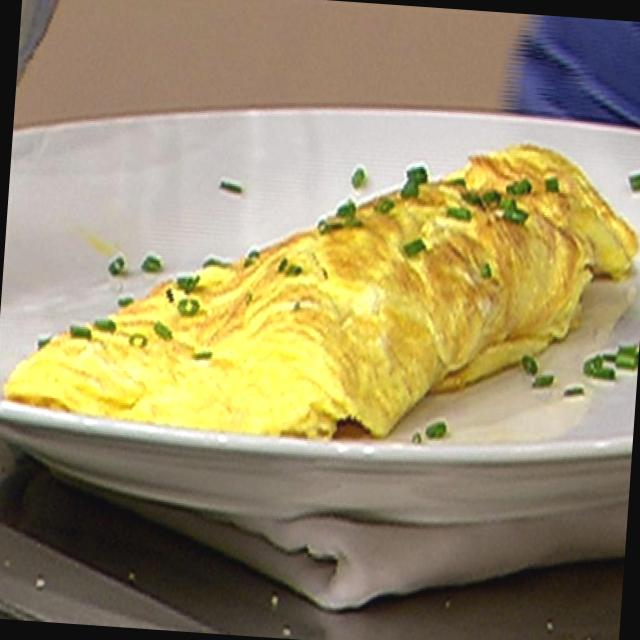Omelet: (3, 107, 640, 466)
